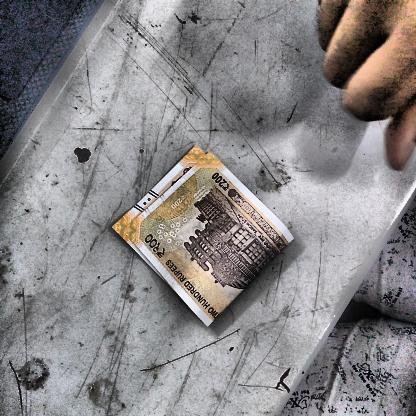Rs200: (207, 167, 236, 195)
